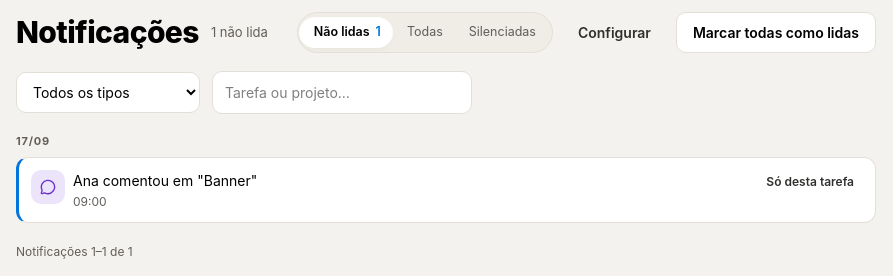
Test: tela de notificações › 'Só desta tarefa' refaz a busca pela tarefa e grava na URL
Click the button "Só desta tarefa": [810, 182] box [757,170,863,194]
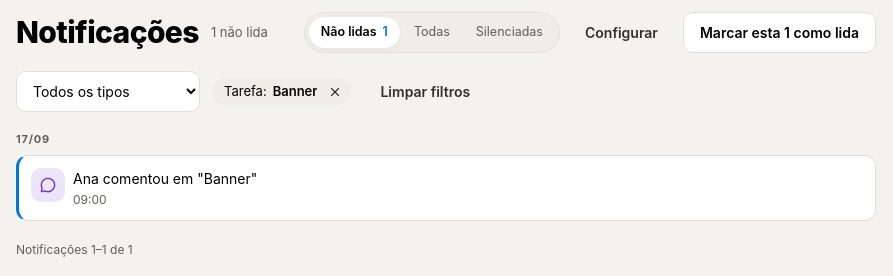
Result: the text "Banner" is shown at [273,82,318,101]
